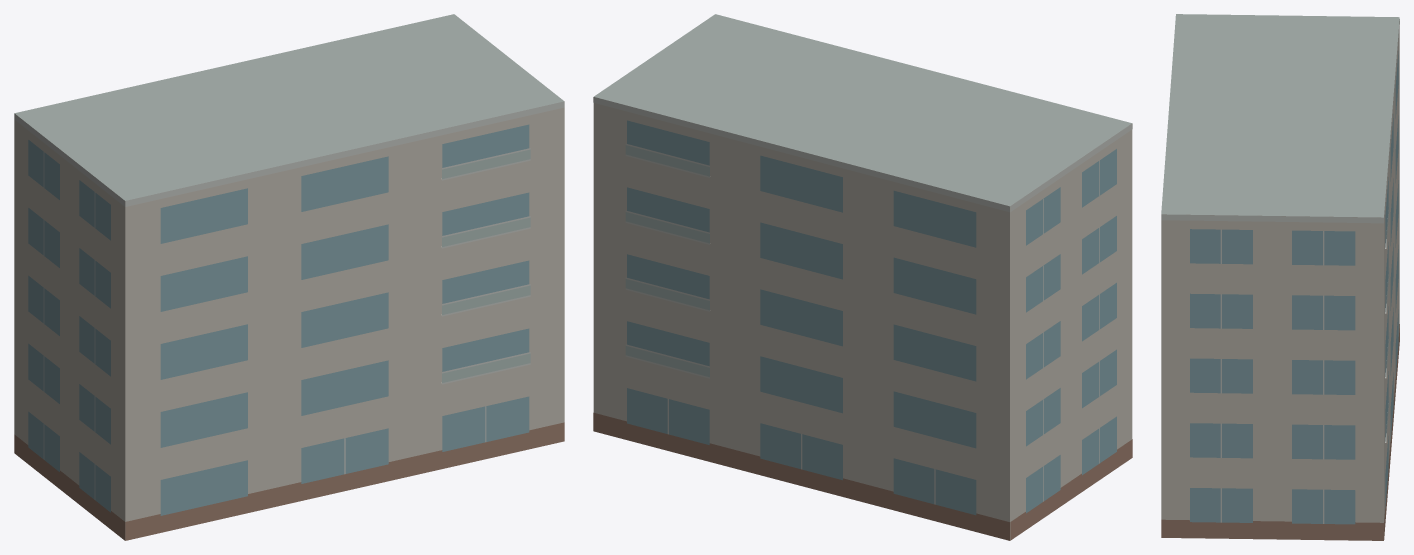
The model's file is survey-upis-32838829.glb.
3 renders of one model, left to right at view 1: azimuth 30°, elevation 25°; view 2: azimuth 150°, elevation 25°; view 3: azimuth 270°, elevation 25°, orthographic. The views are drawn at different scales.
Visible parts, largest first — view 1: survey-upis-32838829.tmp; view 2: survey-upis-32838829.tmp; view 3: survey-upis-32838829.tmp.
Part boxes in pixels (bbox=[...]): survey-upis-32838829.tmp: bbox=[14, 14, 564, 540]; survey-upis-32838829.tmp: bbox=[593, 14, 1132, 540]; survey-upis-32838829.tmp: bbox=[1161, 14, 1399, 540].
Bounding box in the file's own units: 18.23 × 13.5 × 9.04.
